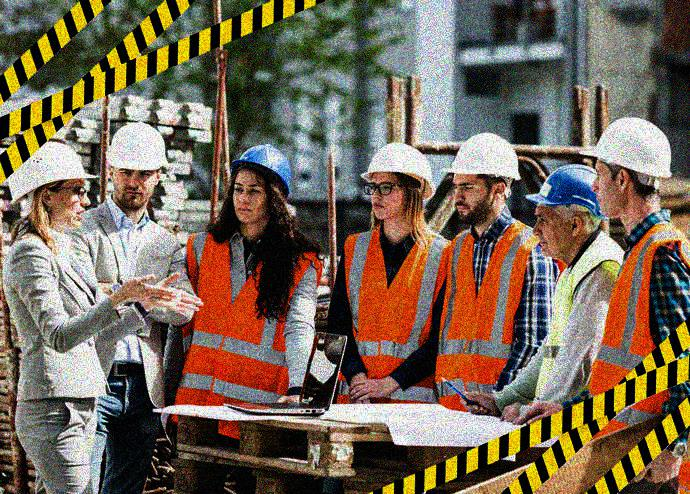helmet: (577, 114, 677, 218), (5, 137, 100, 234), (523, 163, 616, 261), (440, 130, 524, 231), (358, 141, 437, 224), (104, 119, 171, 210), (224, 139, 293, 225)
